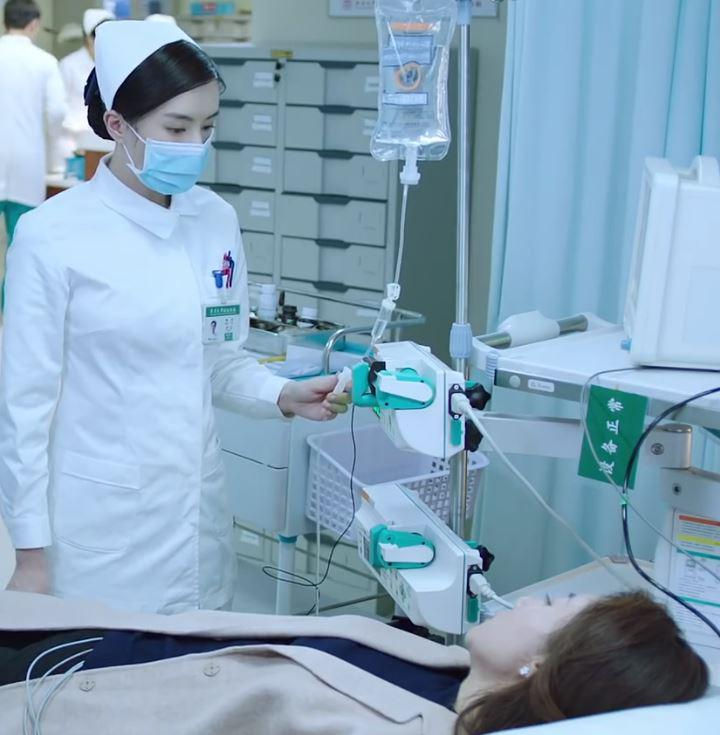NONE: (464, 591, 584, 657)
OK: (131, 99, 219, 195)
